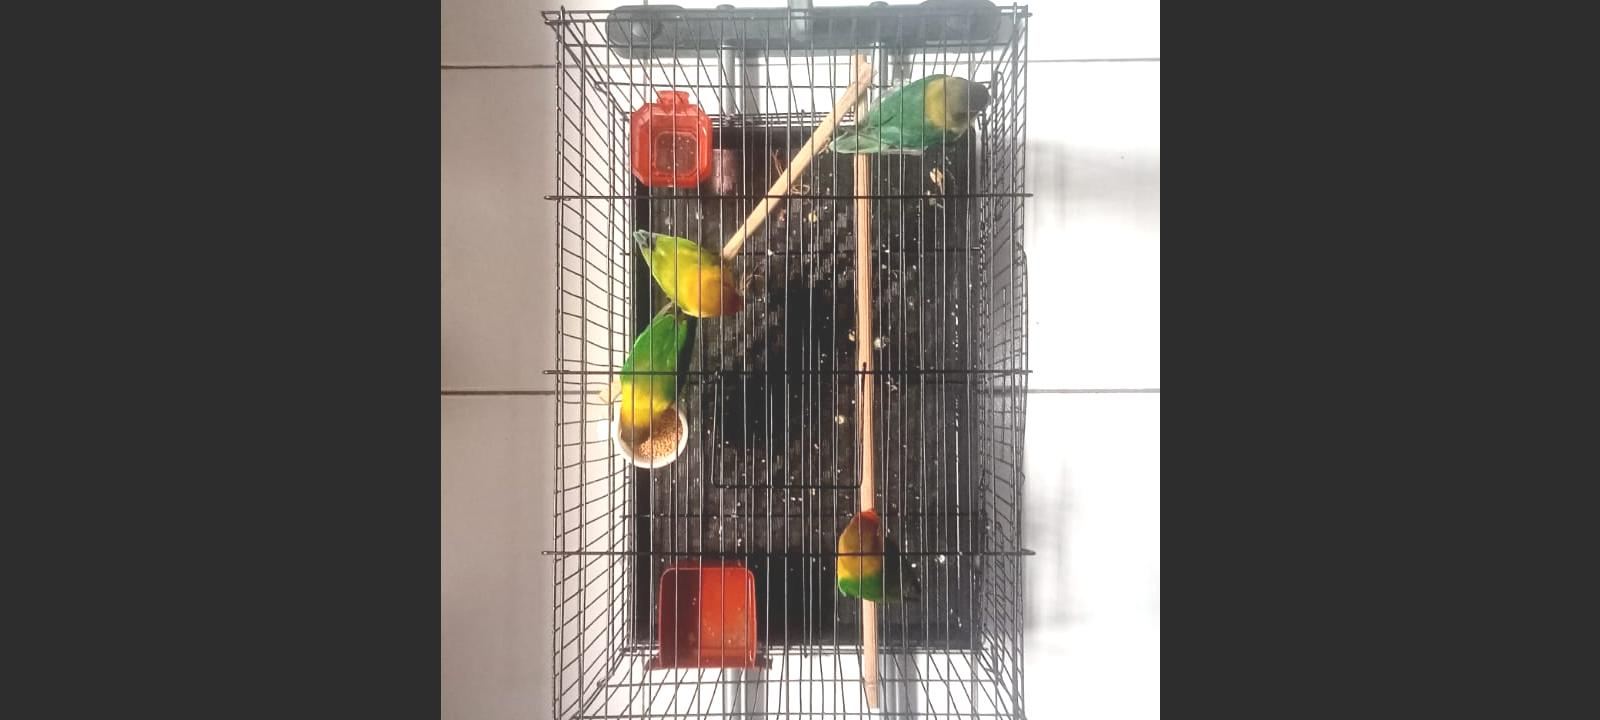LoveBird: (829, 73, 990, 155), (618, 305, 696, 445), (634, 228, 742, 319), (837, 506, 918, 602)
